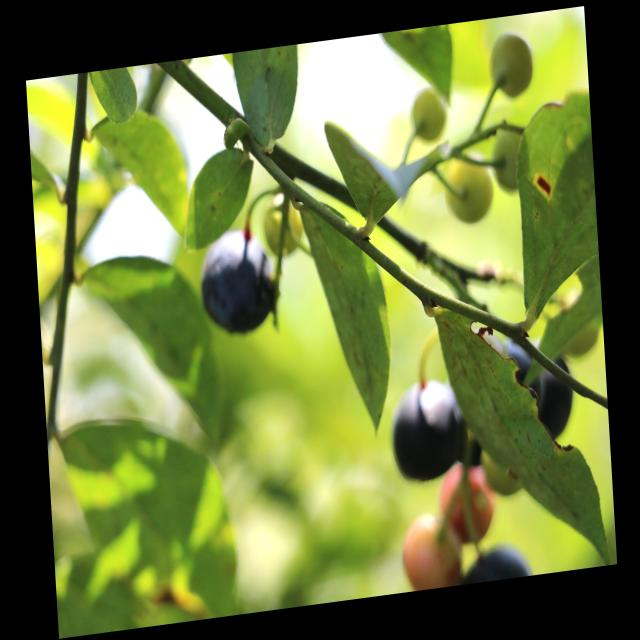blueberry: (196, 222, 280, 342), (389, 372, 464, 484), (505, 336, 575, 444)
blueberry-halfripe: (440, 462, 495, 546), (398, 520, 461, 592)
blueberry-unripe: (445, 150, 493, 223), (489, 122, 532, 193), (487, 32, 534, 96), (261, 202, 304, 262), (408, 84, 449, 145)
